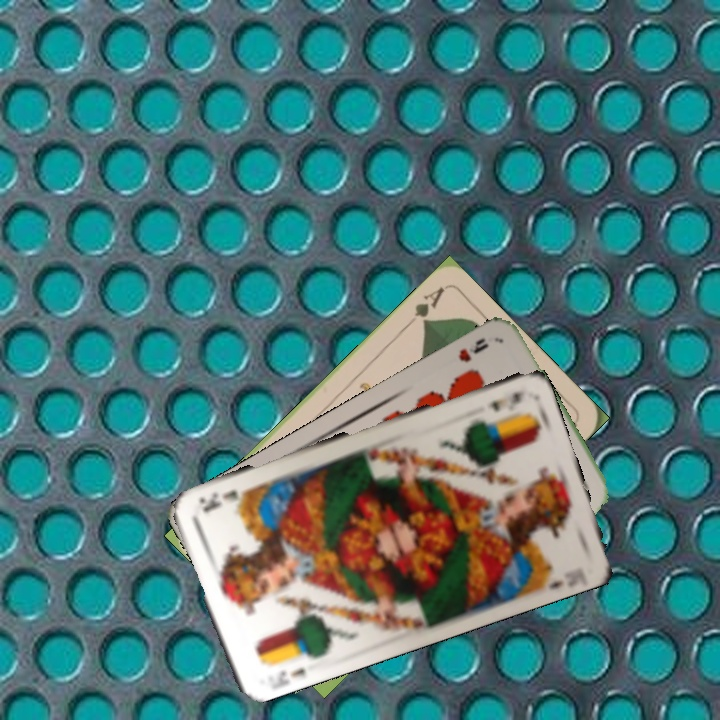EK: (483, 388, 527, 414), (267, 664, 308, 690)
GA: (401, 283, 447, 331)
H9: (454, 333, 492, 365)
